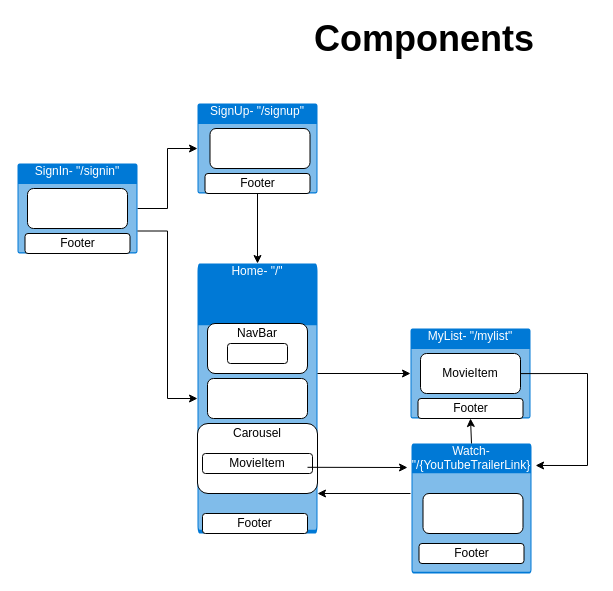
Image size: 613x591. Some labels were removed from this diagram. Each missing label, with the centre of its shape:
BillBoard: [257,398]
search: [257,353]
SignIn: [77,208]
SignUp: [259,148]
